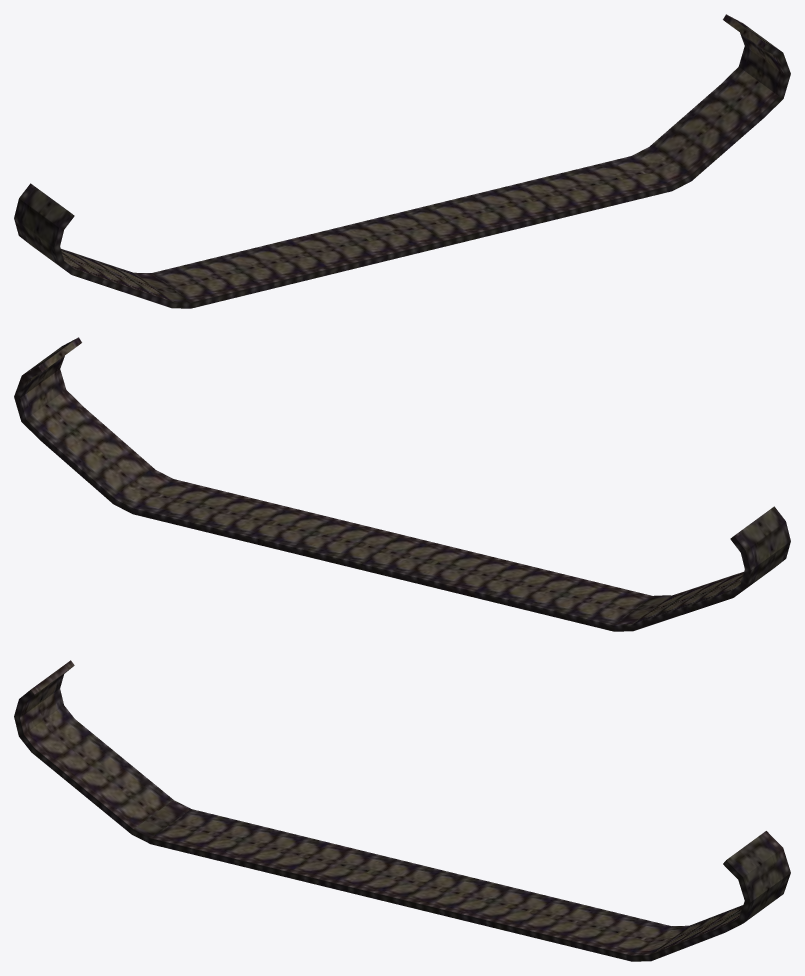
File: m1_track.obj
3 views of the same model, one above another, from view 1: azimuth 30°, elevation 25°; view 2: azimuth 150°, elevation 25°; view 3: azimuth 330°, elevation 25° (orthographic).
Visible parts, largest first — view 1: Cylinder01; view 2: Cylinder01; view 3: Cylinder01.
Part boxes in pixels (box(x1,y1,x2,y2)): Cylinder01: box(14, 14, 790, 308); Cylinder01: box(14, 337, 790, 631); Cylinder01: box(14, 660, 790, 961).
Size of the model in its own units: 15.6 by 2.53 by 1.49.
1 material, 1 textured.
